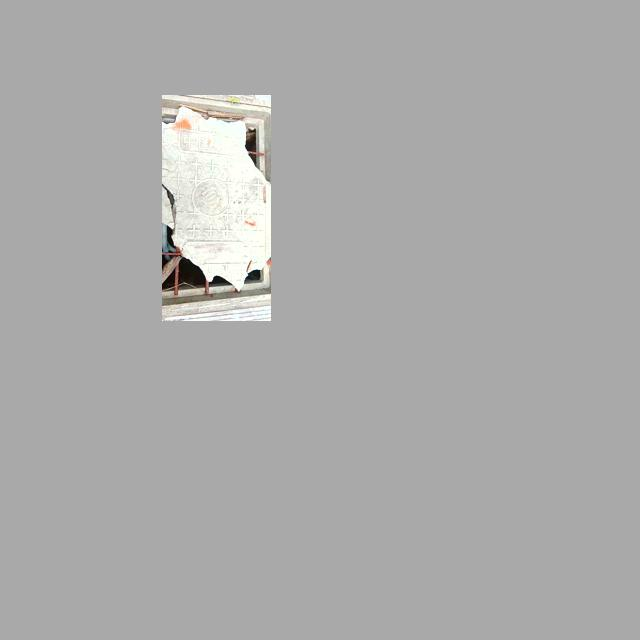broke: (162, 98, 271, 308)
